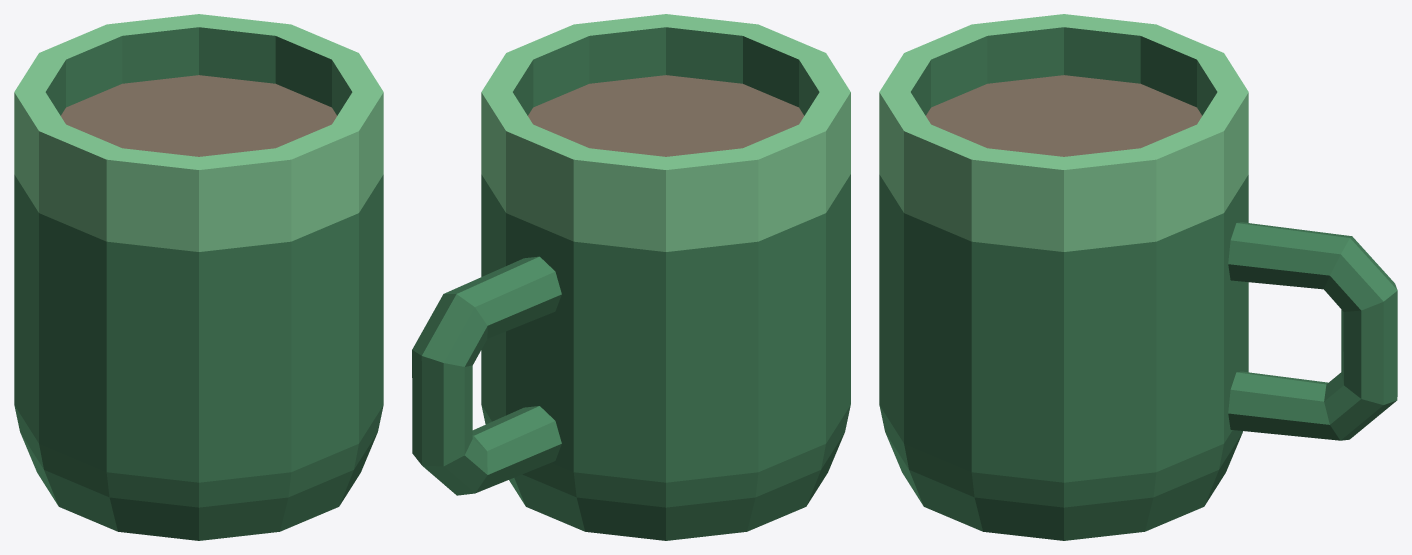
File: Cup.fbx
3 renders of one model, left to right at view 1: azimuth 30°, elevation 25°; view 2: azimuth 150°, elevation 25°; view 3: azimuth 270°, elevation 25°, orthographic.
Parts seen in each view (by area): view 1: Circle.090; view 2: Circle.090; view 3: Circle.090.
Boxes of the visible parts, box(x1,y1,x2,y2) form: Circle.090: box(14, 14, 383, 540); Circle.090: box(412, 14, 850, 540); Circle.090: box(879, 14, 1397, 540).
Bounding box in the file's own units: 0.2117 × 0.297 × 0.2405.
